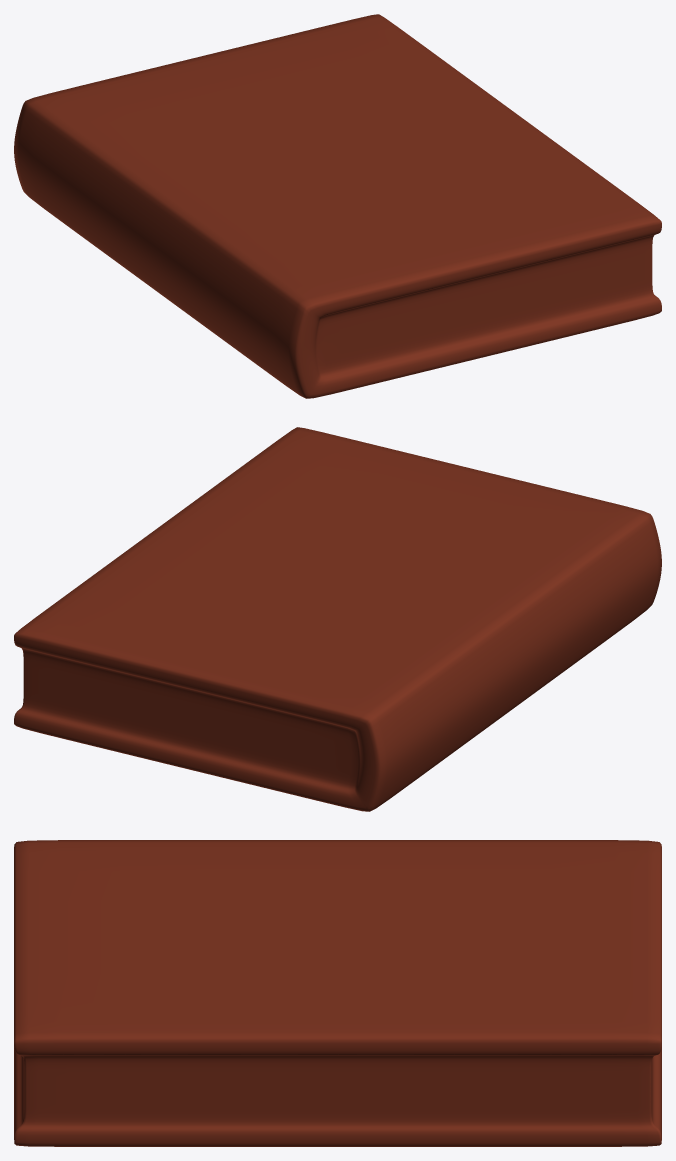
File: Buch.fbx
The picture shows the model from 3 angles, top to bottom: view 1: azimuth 30°, elevation 25°; view 2: azimuth 150°, elevation 25°; view 3: azimuth 270°, elevation 25°; orthographic projection. The views are drawn at different scales.
Parts seen in each view (by area): view 1: Book; view 2: Book; view 3: Book.
Part boxes in pixels (<box>): Book: <box>14,14,661,398</box>; Book: <box>14,427,661,811</box>; Book: <box>14,840,661,1146</box>.
Bounding box in the file's own units: 64.08 × 16.33 × 85.29.
